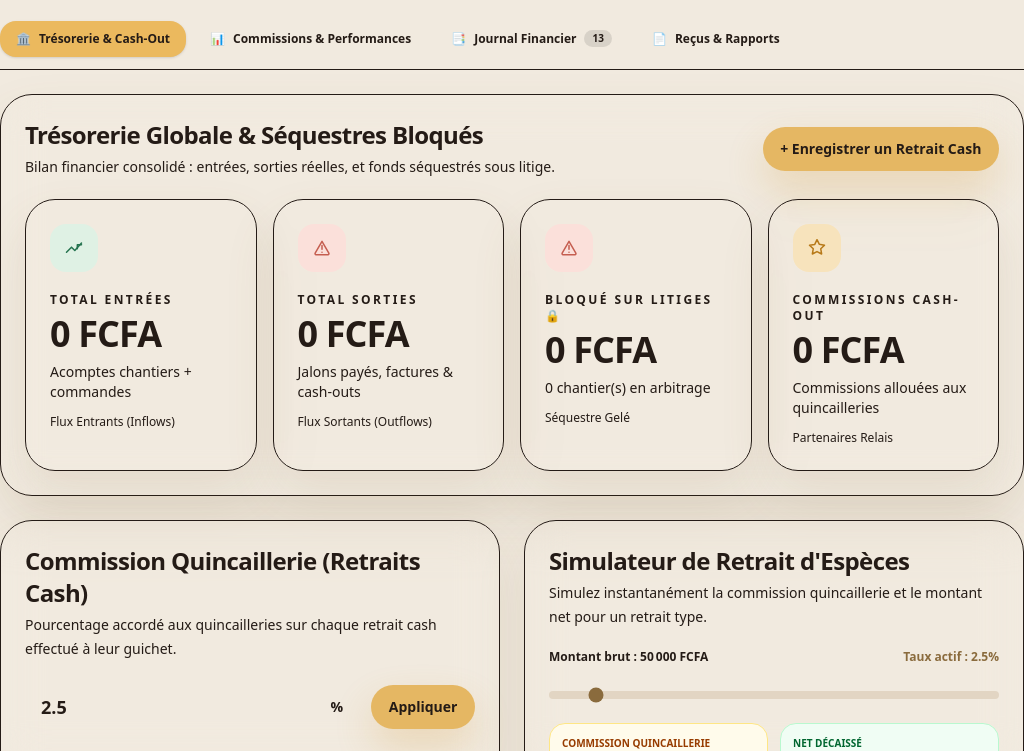
Scenario: TransactionsPanel › affiche le montant, le statut et le bénéficiaire dans le journal financier
Click the button "📑 Journal Financier 13" at [532, 39], box [435,20,628,57]
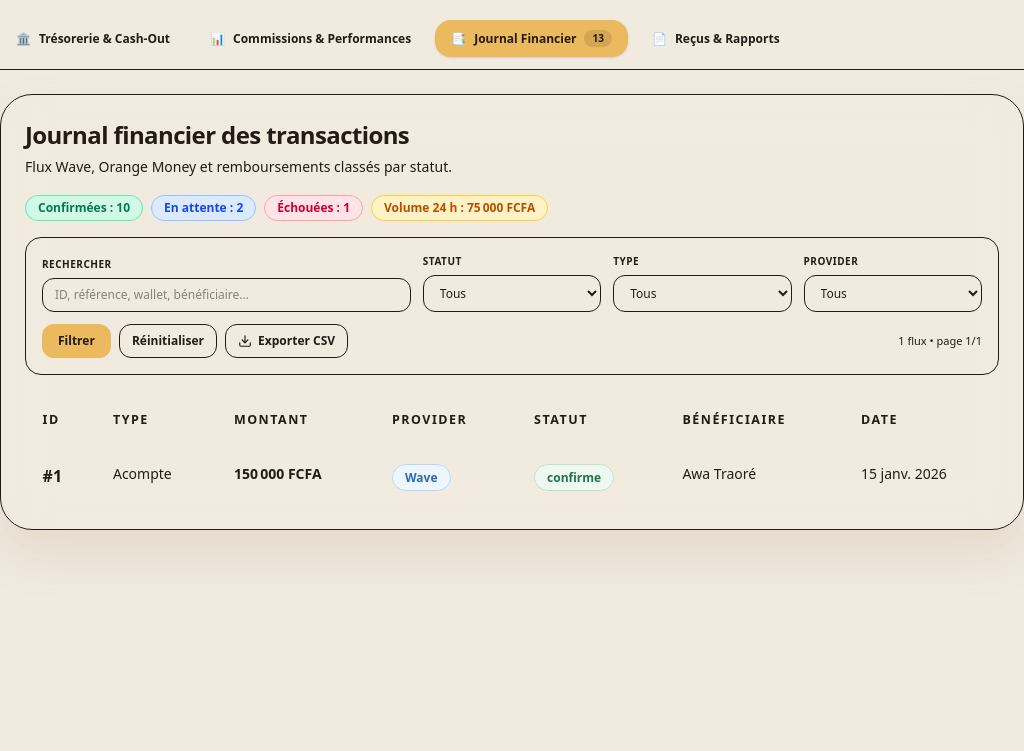
Expected: the text "Awa Traoré" is shown, [665,446,843,505]
